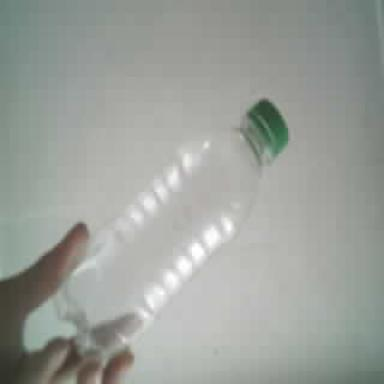bottle: (58, 99, 287, 358)
